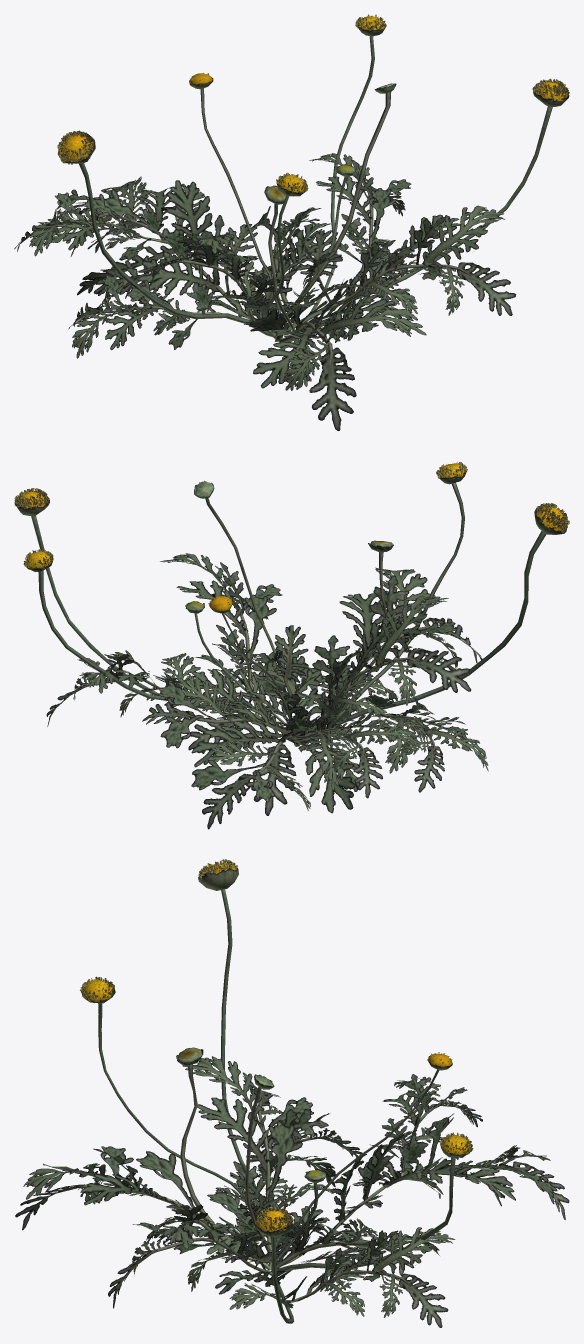
File: flower_stinkkruid.glb
3 renders of one model, top to bottom at view 1: azimuth 30°, elevation 25°; view 2: azimuth 150°, elevation 25°; view 3: azimuth 270°, elevation 25°, orthographic. The views are drawn at different scales.
Parts seen in each view (by area): view 1: flower_stinkkruid_a_LOD0; view 2: flower_stinkkruid_a_LOD0; view 3: flower_stinkkruid_a_LOD0.
Boxes of the visible parts, <box> form: flower_stinkkruid_a_LOD0: <box>14,14,569,430</box>; flower_stinkkruid_a_LOD0: <box>14,462,569,829</box>; flower_stinkkruid_a_LOD0: <box>15,859,569,1327</box>.
Size of the model in its own units: 0.35 by 0.176 by 0.3005.
1 material, 1 textured.
